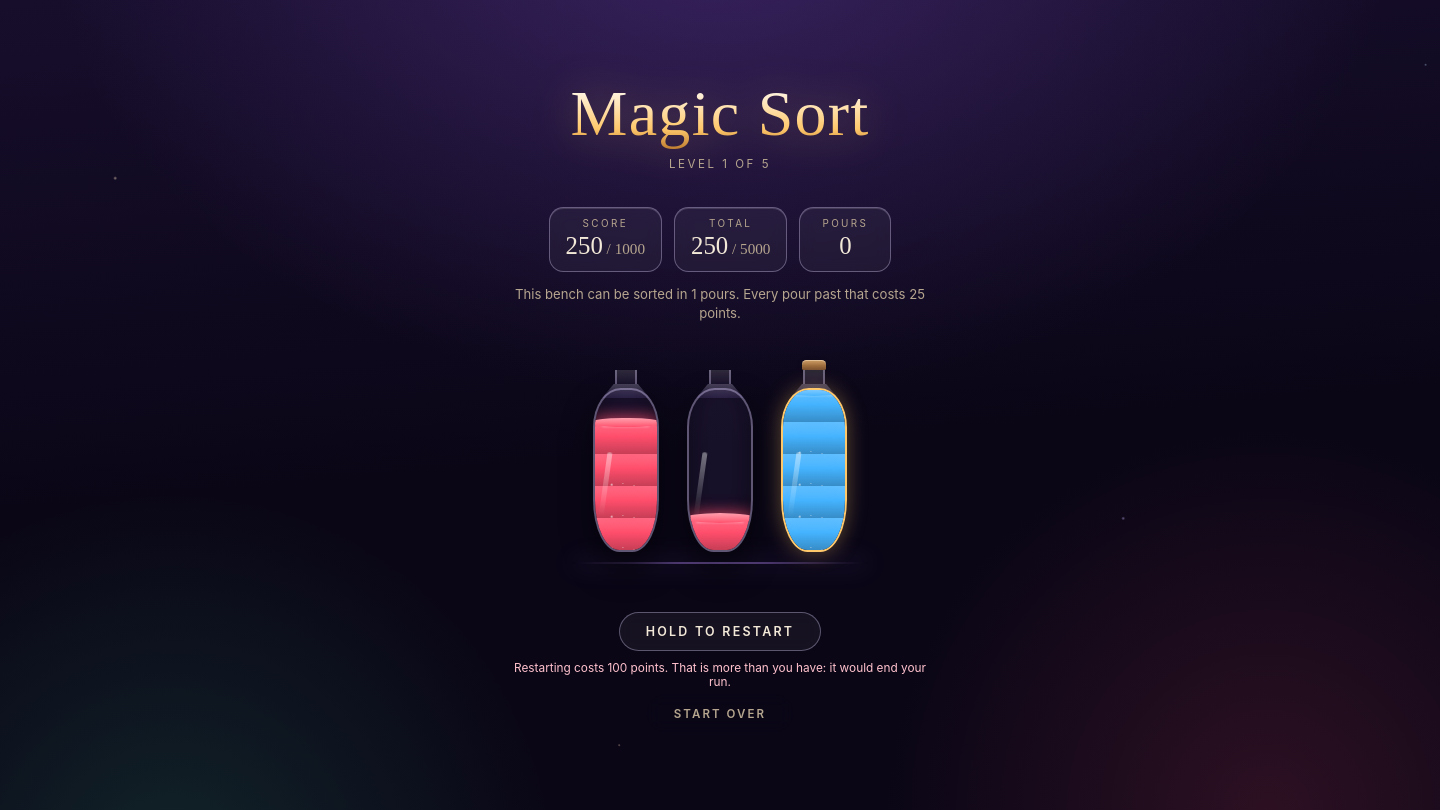
Test: Game › keeps pouring into a four-layer flask on a bench of taller glass
Click the button named "Flask 2, a 5-layer flask holding crimson from bottom to top": (720, 456) x1=687 y1=360 x2=753 y2=552
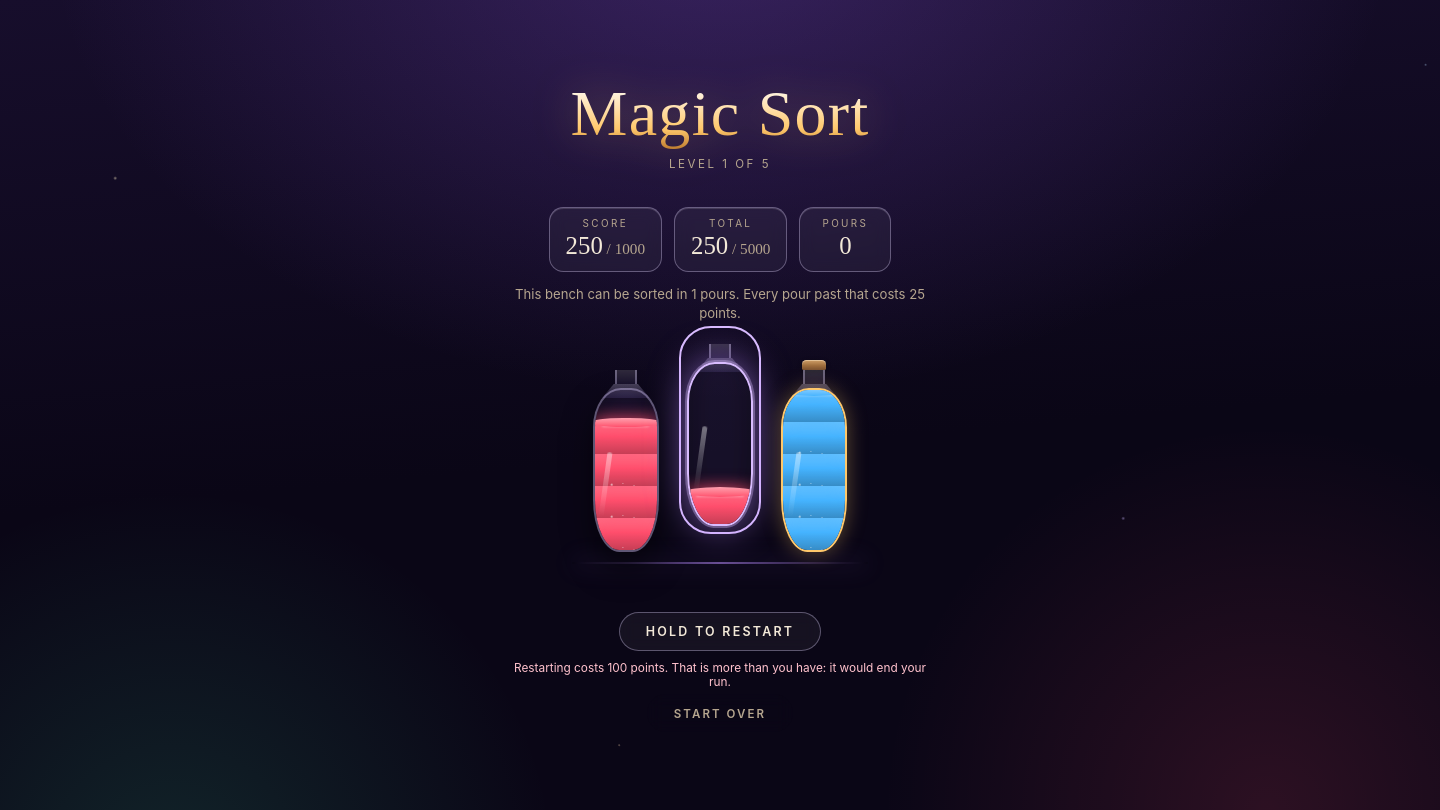
Click the button named "Flask 1, a 5-layer flask holding crimson, crimson, crimson,": (626, 456) x1=593 y1=360 x2=659 y2=552
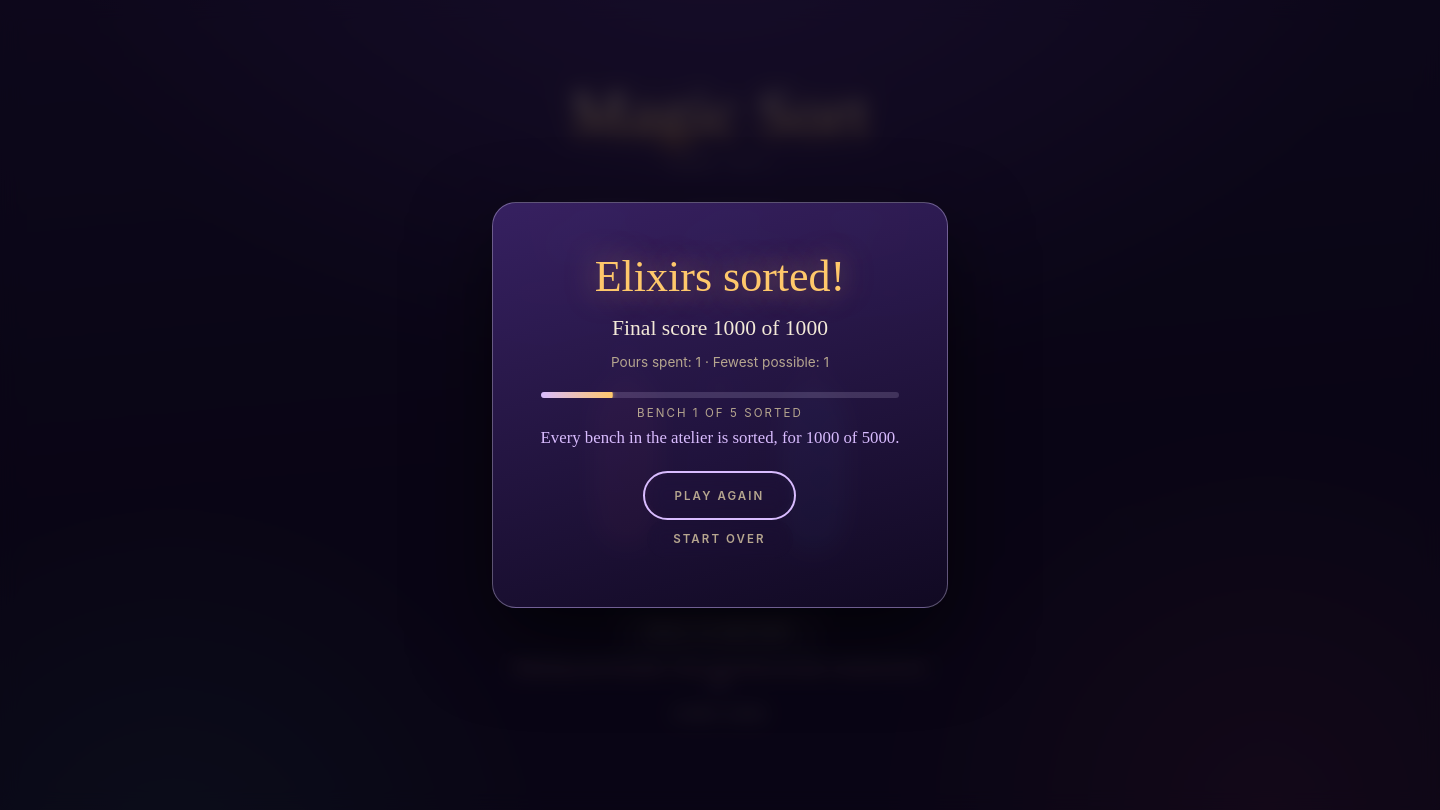
expect the heading "Elixirs sorted!" is shown: met, box x1=595 y1=251 x2=845 y2=302
